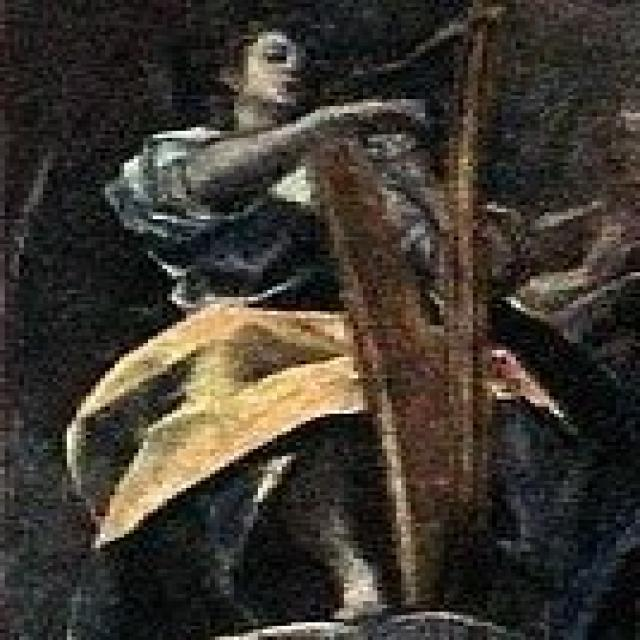angel: (95, 13, 548, 627)
